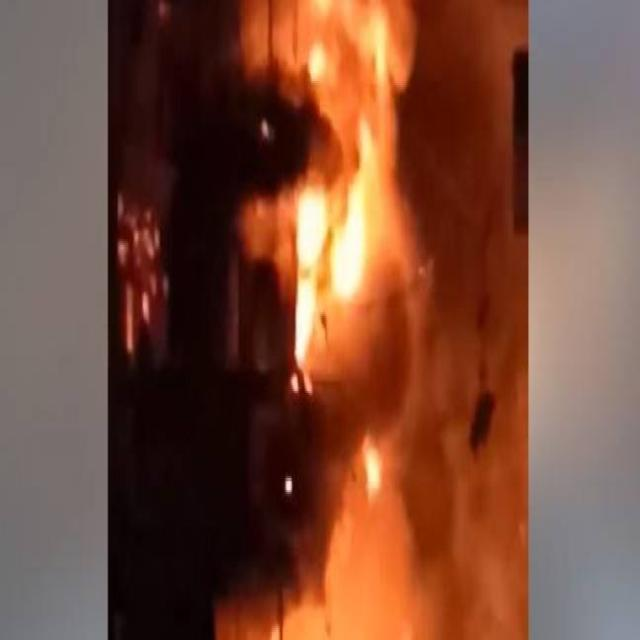Fire: (294, 1, 422, 110), (114, 196, 186, 373), (286, 175, 332, 336), (348, 395, 404, 508), (341, 166, 382, 276)
Smoke: (428, 7, 514, 371), (414, 416, 510, 615), (298, 505, 414, 630)
